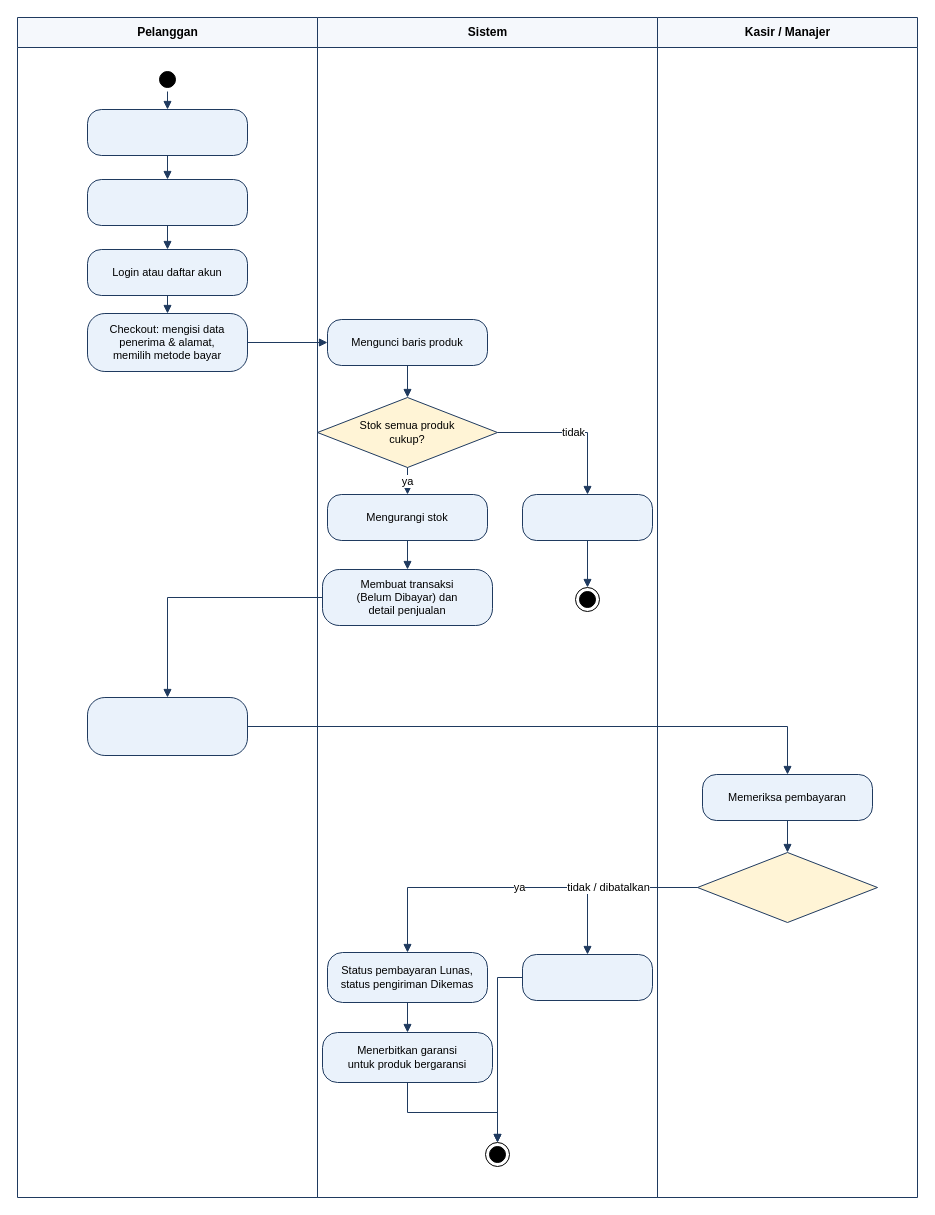
The diagram is 935 pixels wide and 1215 high, and some of its shapes have lost their labels. Here are the shapes that lost their labels. From the top down, the centre of each, then its label:
At point 167,132: "Membuka katalog dan memilih produk".
At point 167,202: "Menambahkan produk ke keranjang".
At point 587,517: "Menampilkan pesan stok tidak cukup".
At point 167,726: "Membayar (Transfer Bank atau QRIS) dan mengunggah bukti".
At point 787,887: "Pembayaran valid?".
At point 587,977: "Status Dibatalkan, stok dikembalikan".
